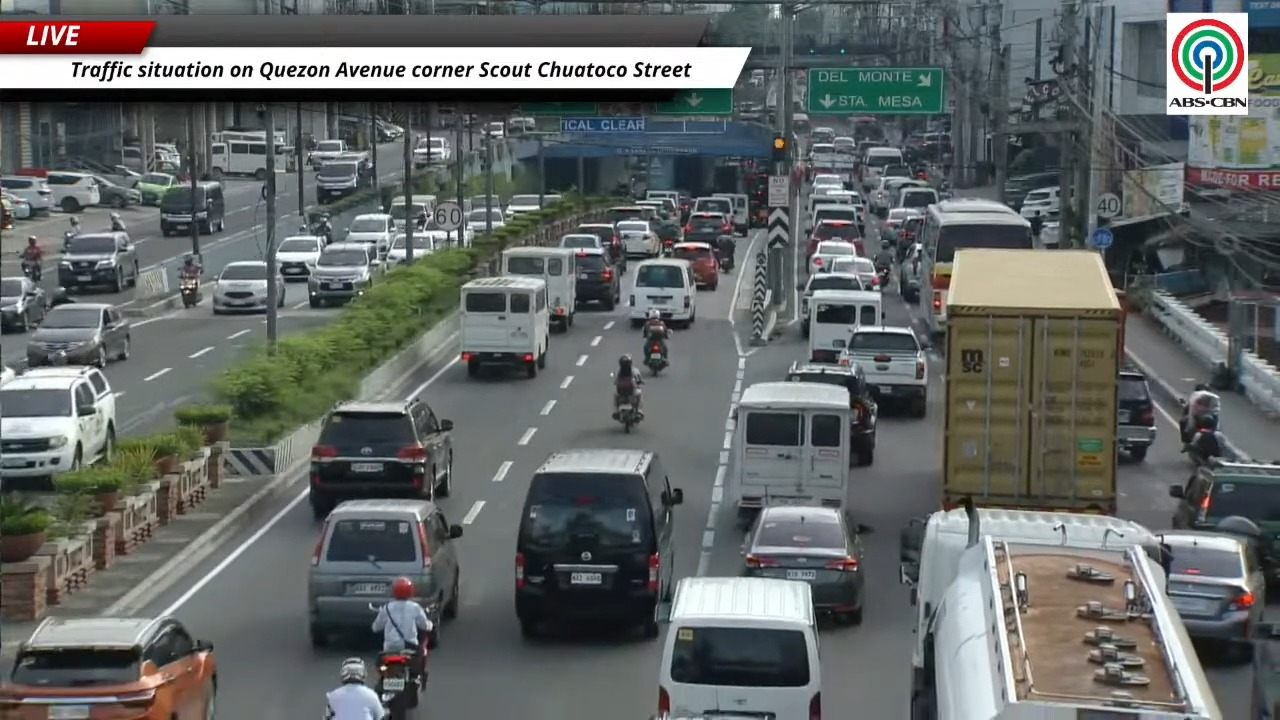bus: (919, 200, 1034, 337), (210, 131, 266, 179), (210, 129, 265, 142)
car: (514, 449, 683, 638), (307, 499, 462, 647), (0, 616, 217, 719), (309, 397, 452, 518), (742, 505, 867, 624), (1169, 459, 1279, 589), (0, 365, 117, 486), (1158, 530, 1265, 658), (786, 361, 878, 465), (838, 325, 927, 417), (26, 303, 130, 367), (308, 243, 381, 307), (800, 272, 870, 336), (211, 261, 285, 314), (1117, 366, 1156, 461), (315, 153, 374, 203), (576, 247, 620, 309), (573, 223, 626, 273), (0, 277, 46, 331), (44, 171, 101, 212), (671, 242, 719, 290), (343, 213, 395, 257), (806, 219, 865, 256), (276, 235, 324, 280), (0, 175, 53, 214), (827, 257, 883, 290), (388, 195, 437, 231), (91, 175, 141, 208), (616, 220, 660, 257), (415, 218, 473, 246), (683, 212, 732, 245), (886, 215, 924, 257), (806, 242, 855, 273), (898, 242, 923, 302), (134, 172, 178, 206), (881, 209, 916, 246), (308, 139, 350, 169), (412, 136, 450, 168), (466, 205, 504, 234), (0, 192, 33, 219), (504, 195, 543, 217), (464, 194, 505, 211), (558, 234, 603, 249), (387, 233, 408, 265), (482, 121, 505, 139), (0, 365, 16, 384)
motorcycle: (375, 648, 422, 719), (1179, 400, 1226, 466), (375, 651, 417, 719), (1178, 394, 1220, 445), (612, 374, 642, 433), (1184, 426, 1224, 467), (616, 398, 642, 433), (178, 273, 202, 308), (645, 340, 667, 376), (714, 237, 735, 272), (309, 216, 332, 245), (21, 258, 41, 282), (717, 254, 734, 274), (877, 265, 890, 288), (63, 230, 77, 251), (660, 239, 673, 257), (112, 221, 127, 232)
truck: (900, 499, 1222, 719), (942, 249, 1123, 513), (1248, 622, 1279, 719)
